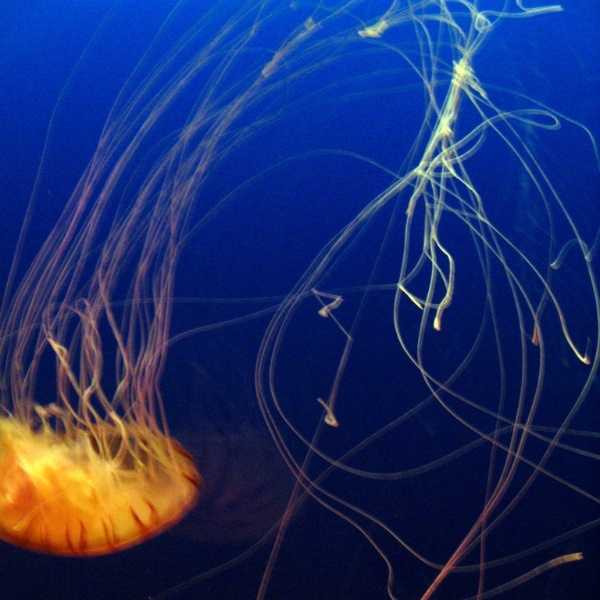Jellyfish: (0, 0, 544, 600)
